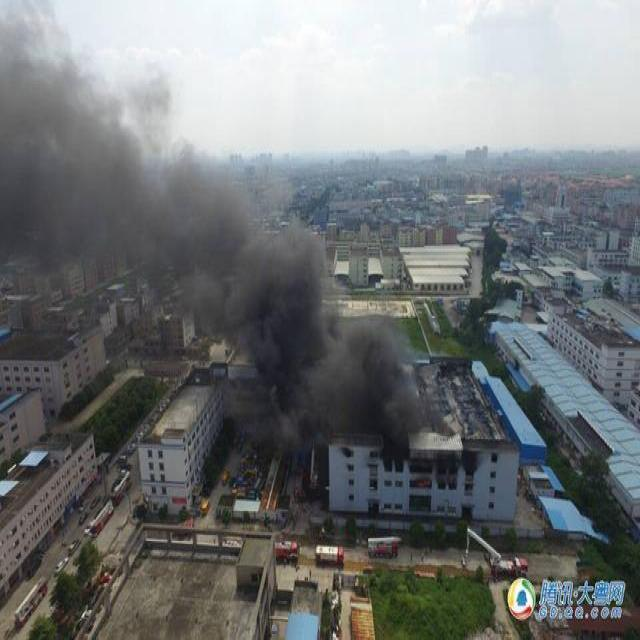Smoke: (1, 6, 126, 228)
